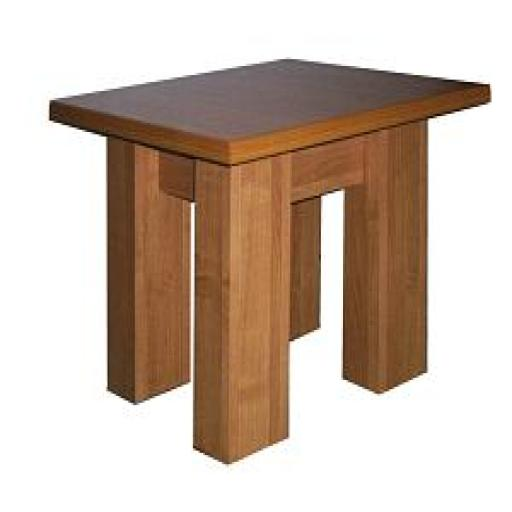table: (47, 55, 482, 448)
